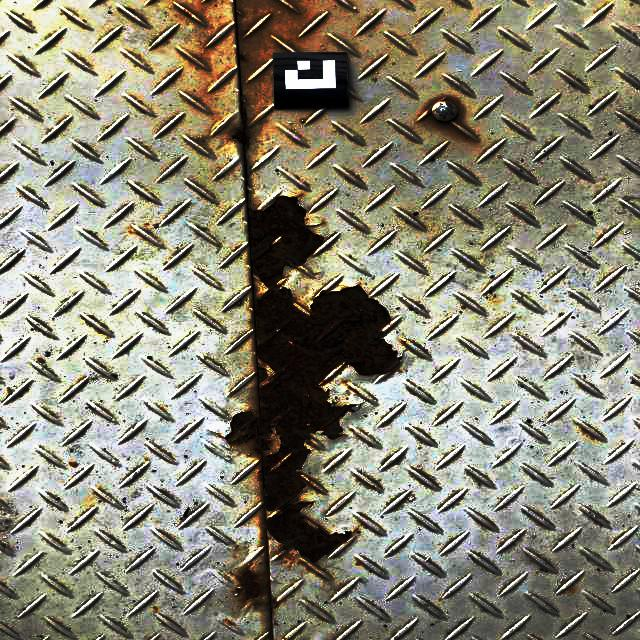Corrosion: (220, 196, 400, 563), (234, 568, 261, 601), (230, 122, 249, 144)
